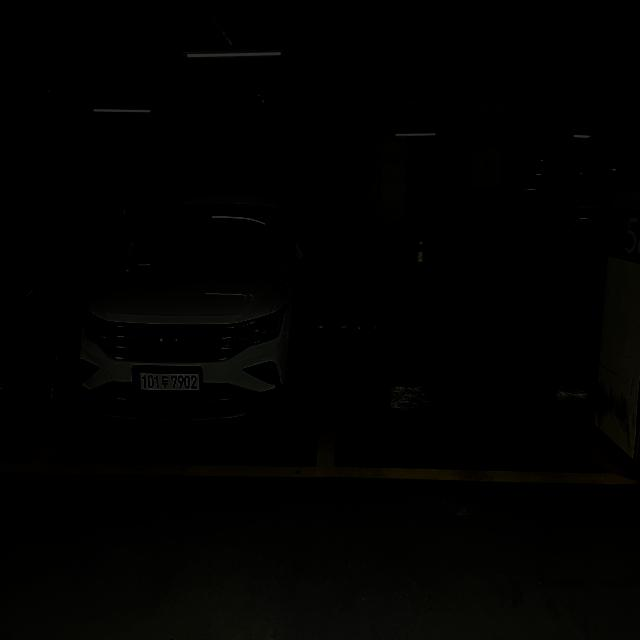empty: (315, 312, 640, 483)
occupied: (70, 174, 311, 495)
